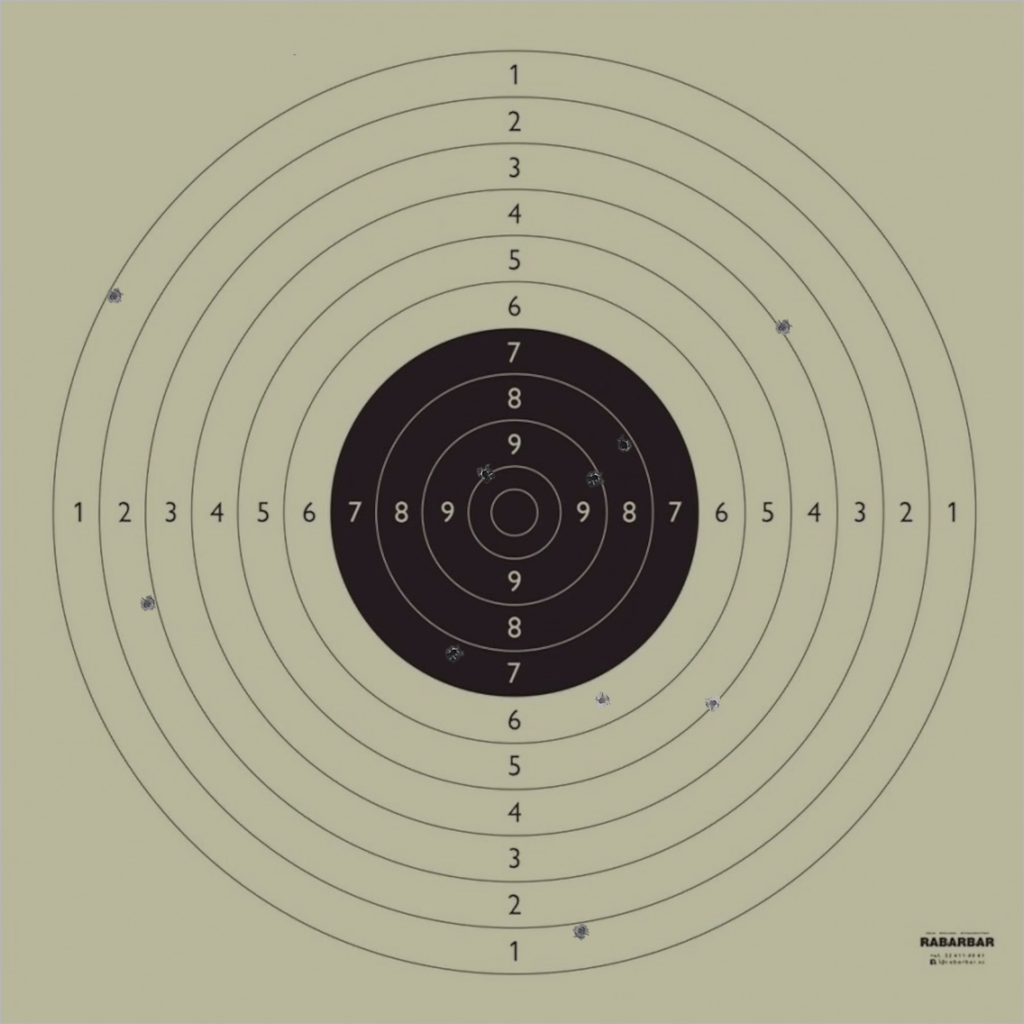0 punktow: (284, 36, 303, 55)
1 punkt: (105, 287, 123, 305)
10 punktow: (476, 465, 495, 484)
2 punkty: (572, 922, 591, 940)
3 punkty: (138, 595, 157, 613)
4 punkty: (773, 318, 792, 337)
5 punktow: (704, 694, 722, 713)
6 punktow: (593, 691, 611, 710)
7 punktow: (445, 643, 463, 662)
8 punktow: (615, 436, 633, 454)
9 punktow: (586, 469, 604, 487)
